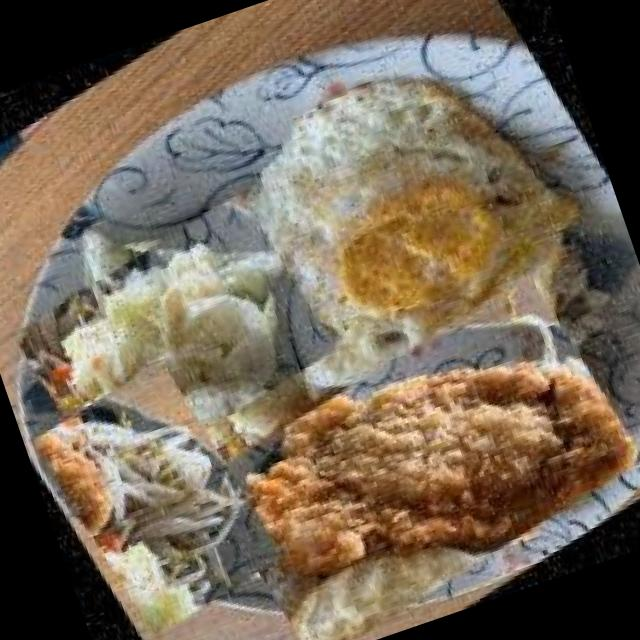chinese_cabbage: (2, 170, 346, 512)
fried_chicken: (171, 255, 640, 640)
fried_eggs: (122, 0, 640, 501)
mung_bean_sprouts: (19, 341, 296, 640)
